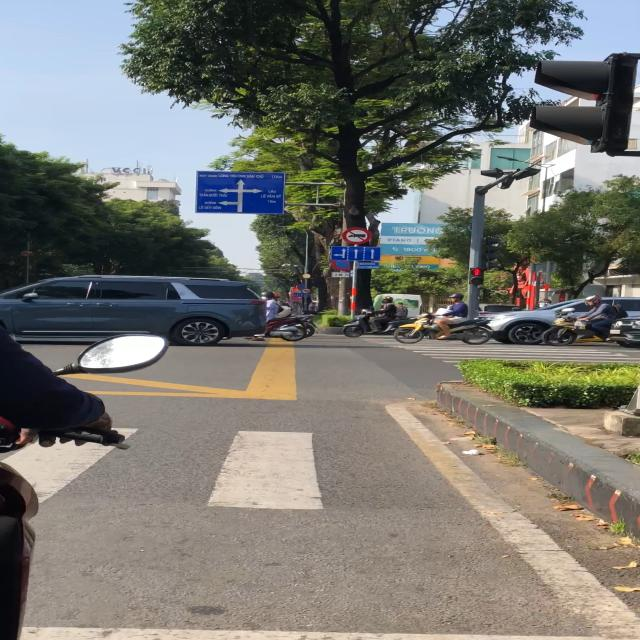Bien bao cam xe so-mi ro-mooc: (340, 226, 374, 245)
